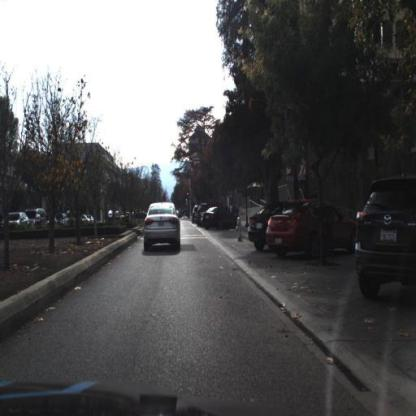car: (355, 177, 416, 302), (265, 199, 356, 261), (140, 199, 183, 260), (247, 198, 274, 248), (248, 204, 265, 255), (200, 207, 236, 231), (202, 207, 233, 232), (30, 205, 48, 234), (26, 207, 47, 231)
pedestrian: (265, 201, 360, 265), (312, 185, 319, 208)
